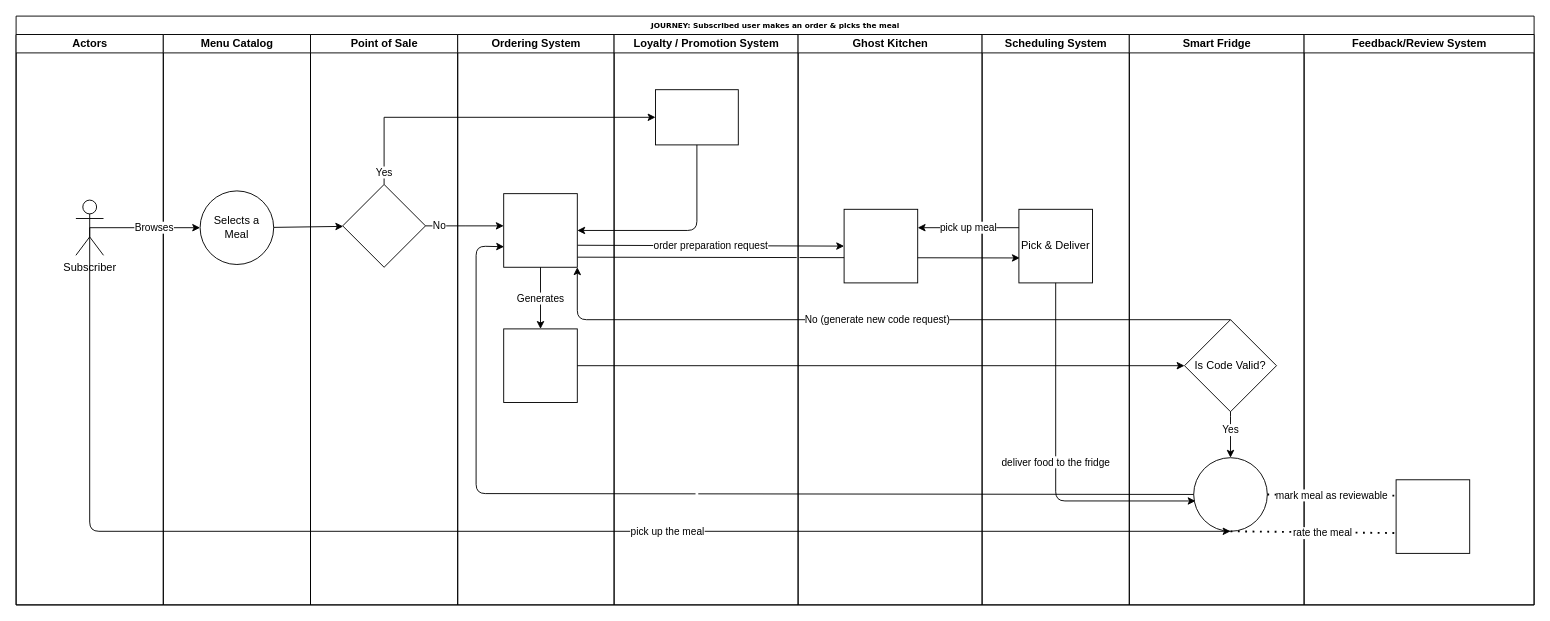
This 1550x621 diagram has some shape labels left out. The shapes that lost their labels are listed below. From the top down, each one's centre as x and y in pixels, then its label:
At (696,117): "Apply Discount".
At (384,225): "Has Coupon?".
At (540,230): "Make Order".
At (880,245): "Make Batch of Meals".
At (540,365): "Access Code".
At (1230,494): "Provide Meal".
At (1432,516): "Create Review".
